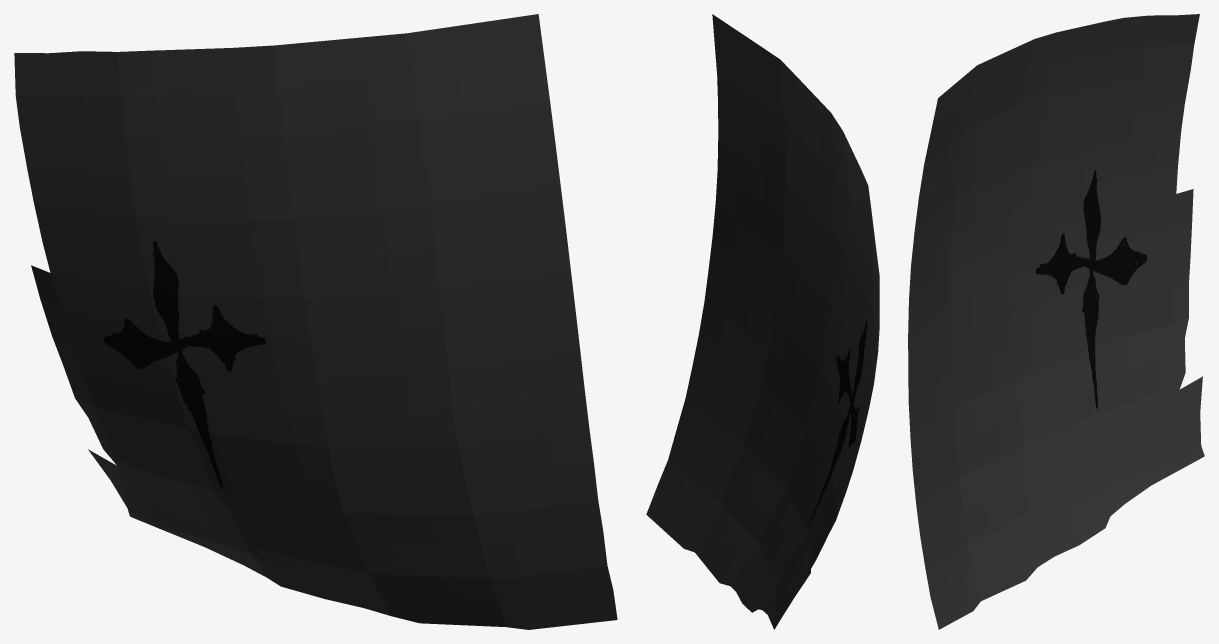
Rendered from Temple_Cross.glb.
3 views of the same model, side by side, from view 1: azimuth 30°, elevation 25°; view 2: azimuth 150°, elevation 25°; view 3: azimuth 270°, elevation 25° (orthographic). The views are drawn at different scales.
Parts seen in each view (by area): view 1: Temple_Cross; view 2: Temple_Cross; view 3: Temple_Cross.
Part boxes in pixels (box(x1,y1,x2,y2)): Temple_Cross: box(14, 14, 617, 629); Temple_Cross: box(646, 14, 879, 629); Temple_Cross: box(908, 14, 1204, 629).
Bounding box in the file's own units: 0.2821 × 0.387 × 0.2048.
1 material, 1 textured.
